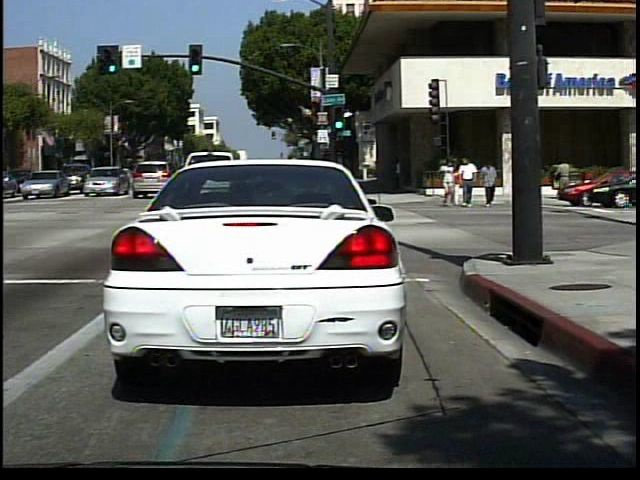person: (457, 154, 481, 208), (478, 157, 501, 208), (436, 154, 455, 208), (553, 155, 575, 201), (450, 163, 464, 210)
